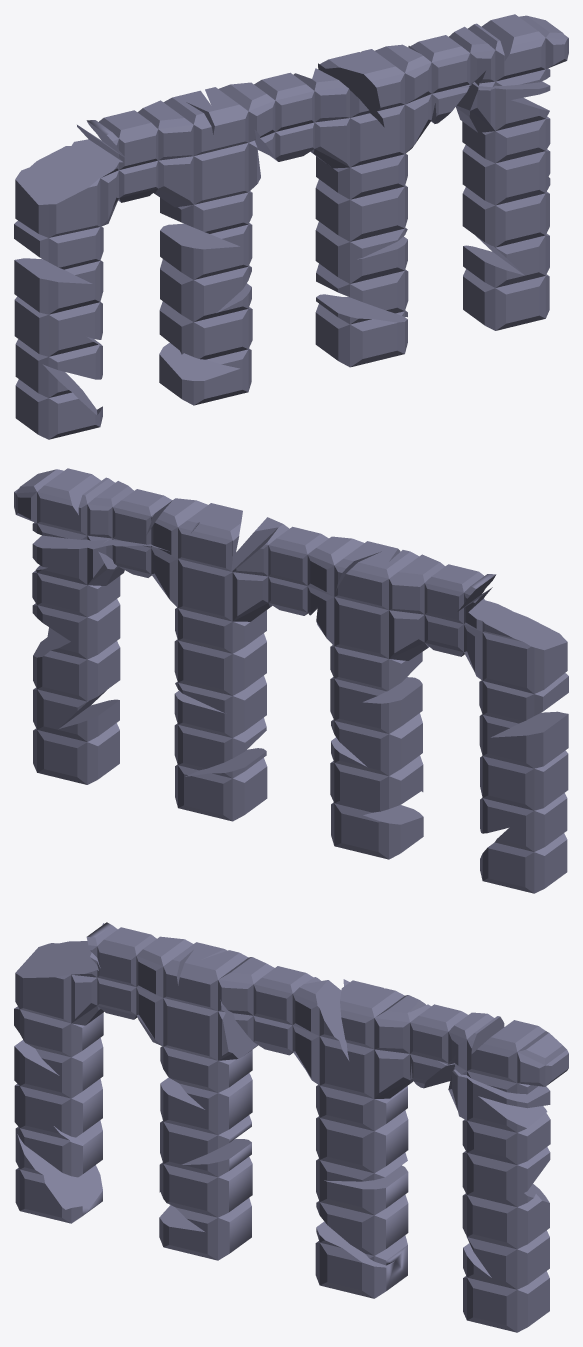
The model's file is broken_arcs2.fbx.
3 renders of one model, top to bottom at view 1: azimuth 30°, elevation 25°; view 2: azimuth 150°, elevation 25°; view 3: azimuth 330°, elevation 25°, orthographic.
Visible parts, largest first — view 1: broken_arcs2; view 2: broken_arcs2; view 3: broken_arcs2.
Part boxes in pixels (x1,y1,x2,y2): broken_arcs2: [14, 14, 568, 439]; broken_arcs2: [14, 468, 568, 893]; broken_arcs2: [14, 922, 568, 1332].
Bounding box in the file's own units: 11.02 × 5.66 × 1.24.
